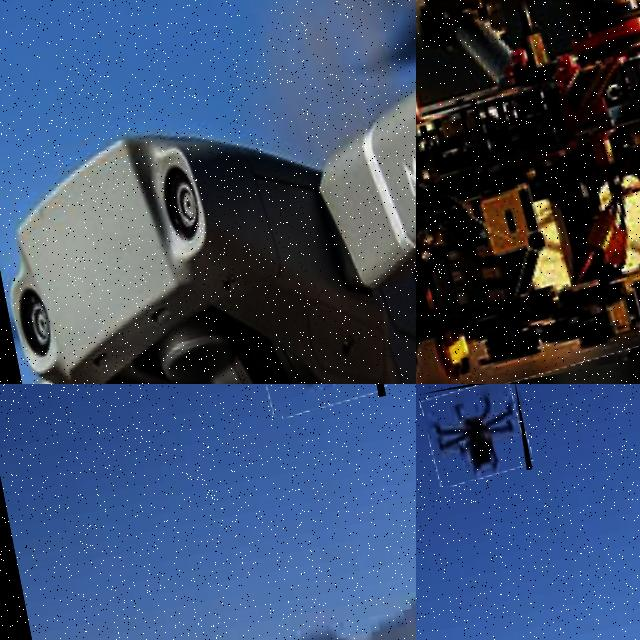0: (420, 384, 532, 487), (247, 384, 386, 418)
drone: (0, 0, 416, 384), (416, 0, 640, 384)
